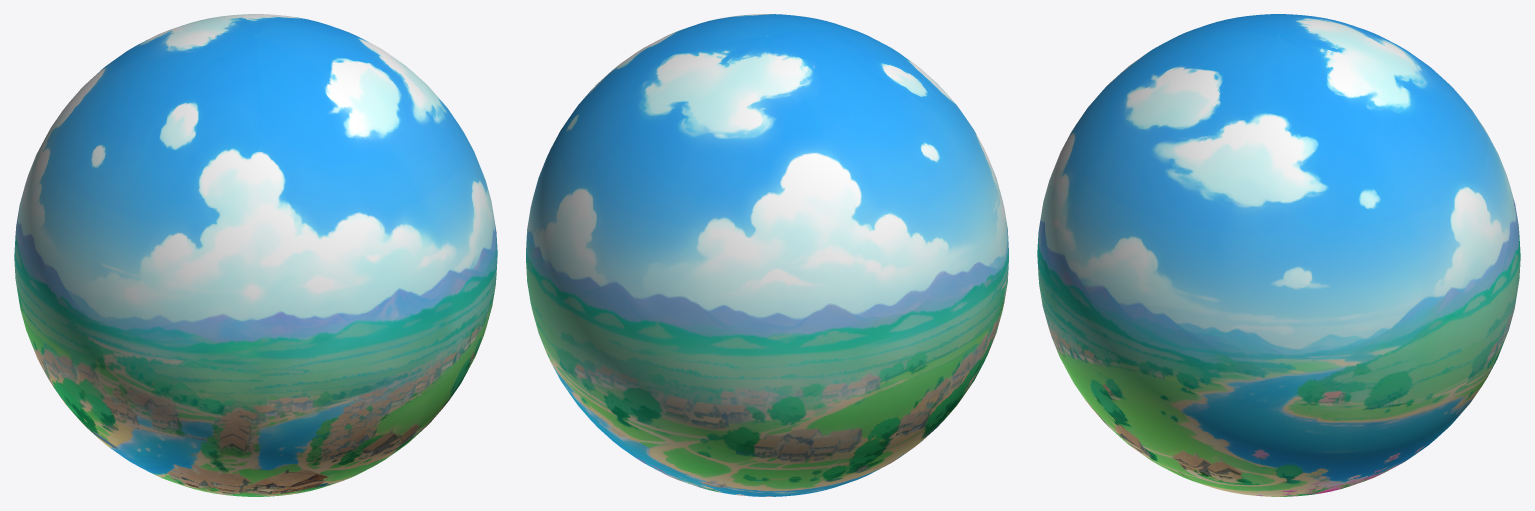
Rendered from sky_anime.glb.
3 renders of one model, left to right at view 1: azimuth 30°, elevation 25°; view 2: azimuth 150°, elevation 25°; view 3: azimuth 270°, elevation 25°, orthographic.
Visible parts, largest first — view 1: Sphere.004; view 2: Sphere.004; view 3: Sphere.004.
Part boxes in pixels (box(x1,y1,x2,y2)): Sphere.004: box(14, 14, 497, 496); Sphere.004: box(526, 14, 1008, 496); Sphere.004: box(1037, 14, 1520, 496).
Size of the model in its own units: 20270 by 20272 by 20270.
Materials: 1 (1 with a texture image).
